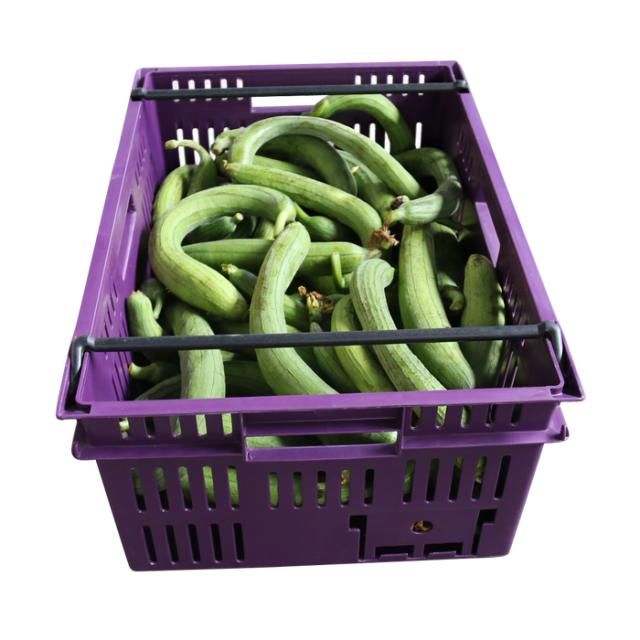basket: (44, 51, 591, 575)
